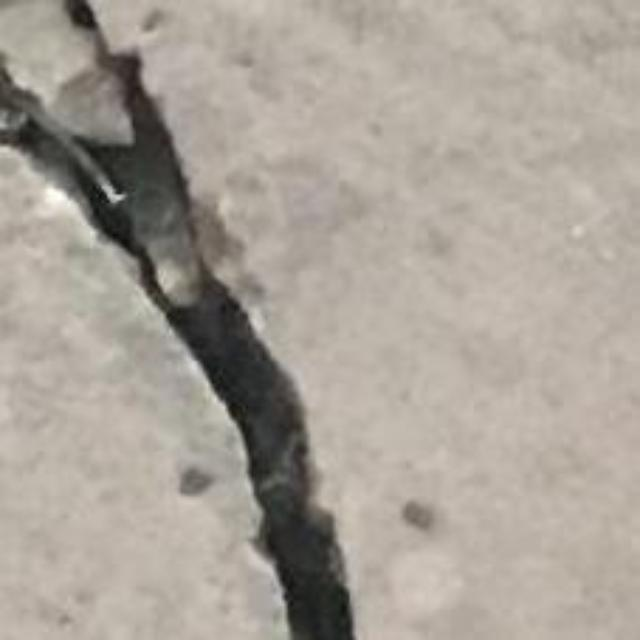crack: (0, 0, 355, 639)
